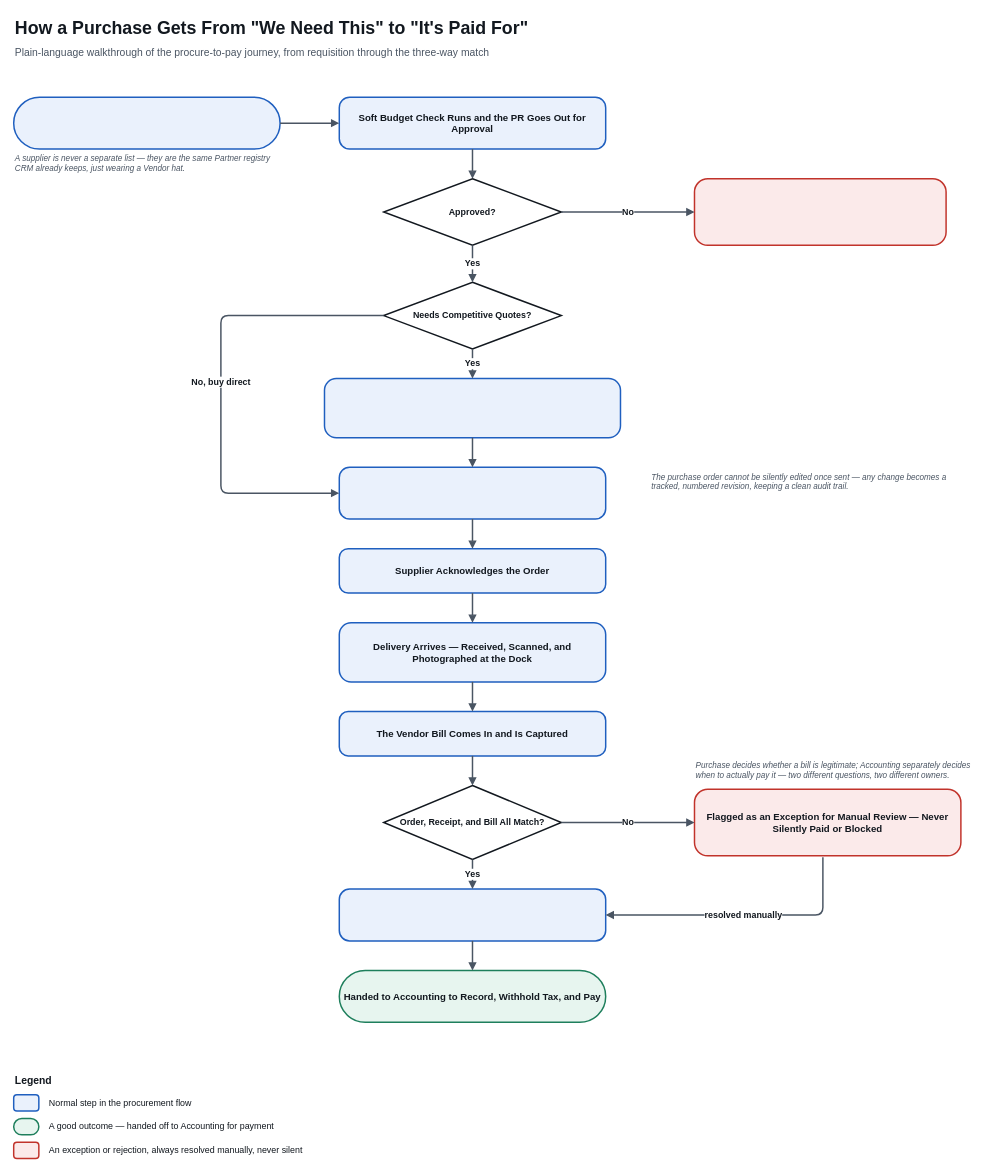
The diagram is 995 pixels wide and 1173 high, and some of its shapes have lost their labels. Here are the shapes that lost their labels. From the top down, the centre of each, then its label:
point (146, 122): Someone Needs Something — a Requisition (PR) Is Raised
point (819, 212): Sent Back to the Requester With a Reason
point (472, 407): Suppliers Are Invited to Quote (RFQ) and Responses Compared Side by Side
point (472, 492): A Purchase Order Is Created and Sent to the Chosen Supplier
point (472, 914): Routed for Internal Validation — Is This Bill Legitimate?
